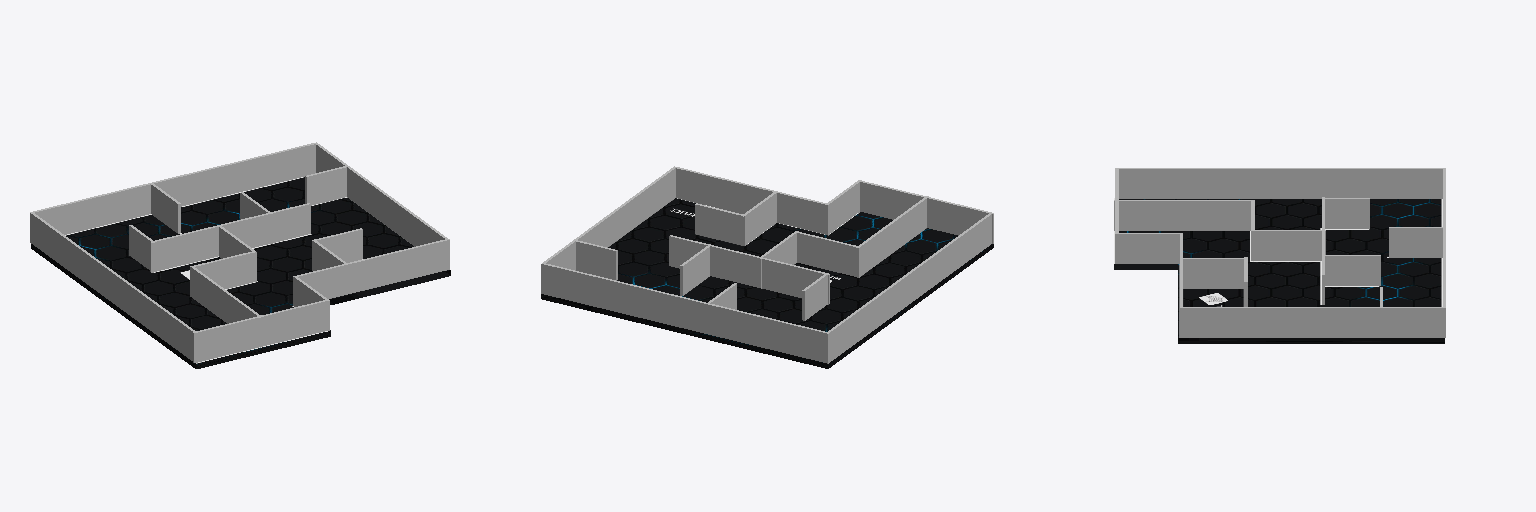
3 views of the same model, side by side, from view 1: azimuth 30°, elevation 25°; view 2: azimuth 150°, elevation 25°; view 3: azimuth 270°, elevation 25° (orthographic).
Visible parts, largest first — view 1: WALLS, FLOOR; view 2: WALLS, FLOOR; view 3: WALLS, FLOOR.
Boxes of the visible parts, <box> form: WALLS: <box>30,142,449,362</box>; FLOOR: <box>31,177,450,368</box>; WALLS: <box>541,166,993,363</box>; FLOOR: <box>541,198,993,368</box>; WALLS: <box>1114,168,1445,337</box>; FLOOR: <box>1114,198,1444,343</box>.
Size of the model in its own units: 2.51 by 0.2987 by 2.51.
Materials: 2 (1 with a texture image).